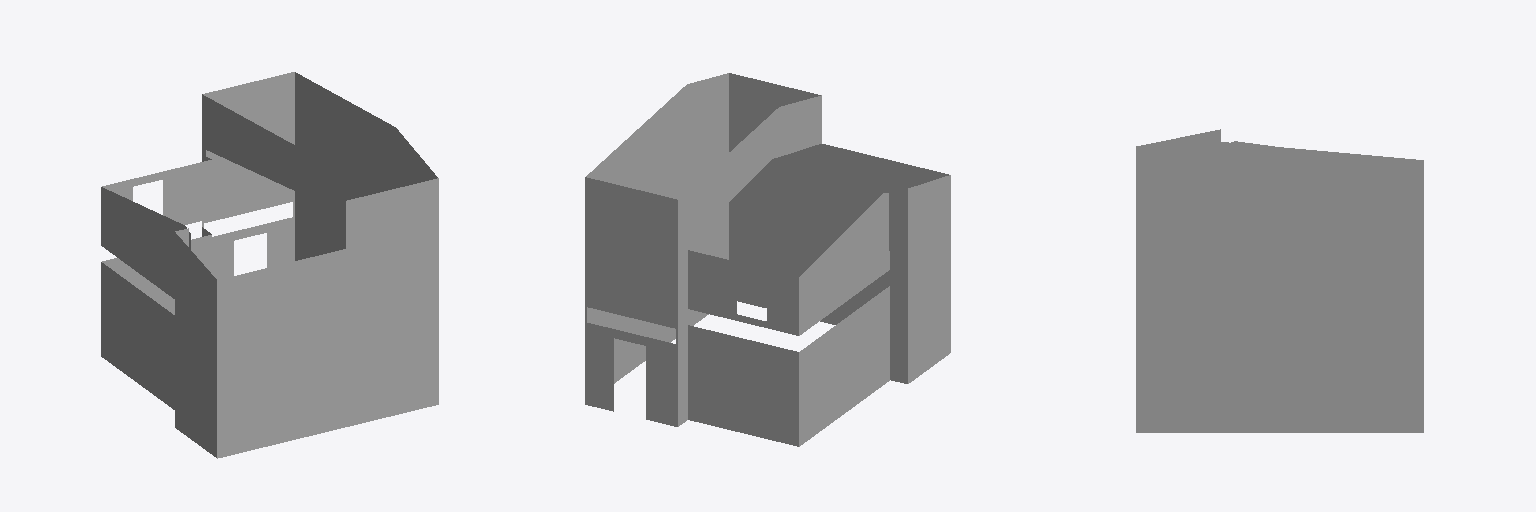
File: BuildingOutterWalls.obj
The picture shows the model from 3 angles: view 1: azimuth 30°, elevation 25°; view 2: azimuth 150°, elevation 25°; view 3: azimuth 270°, elevation 25°; orthographic projection.
Parts seen in each view (by area): view 1: bedroom#2.024_Mesh.022; view 2: bedroom#2.024_Mesh.022; view 3: bedroom#2.024_Mesh.022.
Boxes of the visible parts, x1=… form: bedroom#2.024_Mesh.022: x1=101, y1=72, x2=438, y2=458; bedroom#2.024_Mesh.022: x1=585, y1=73, x2=950, y2=446; bedroom#2.024_Mesh.022: x1=1136, y1=129, x2=1423, y2=432.
Size of the model in its own units: 32.6 by 34.67 by 36.74.